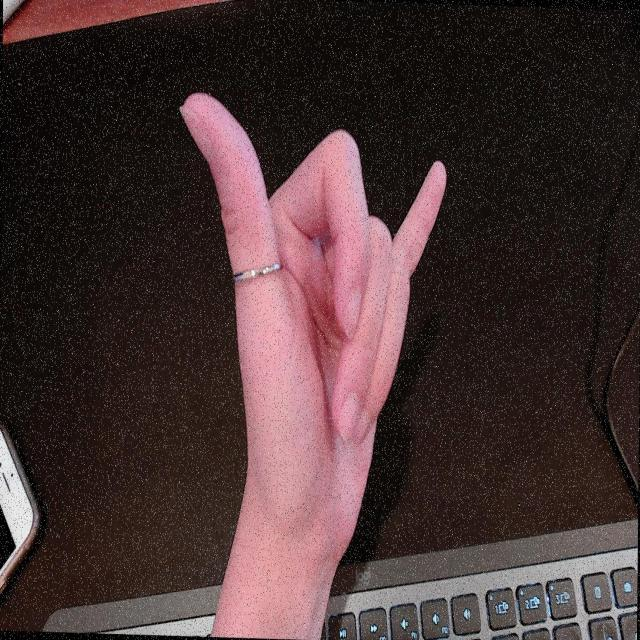Y: (174, 88, 452, 563)
